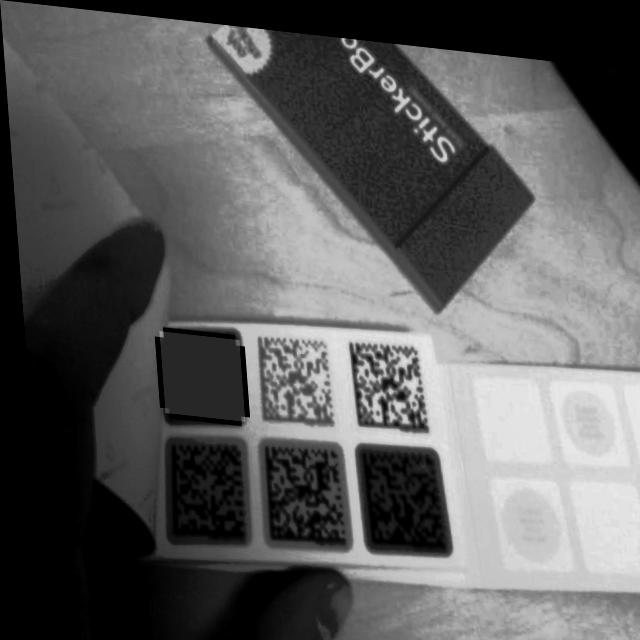qr_code: (154, 328, 239, 417)
